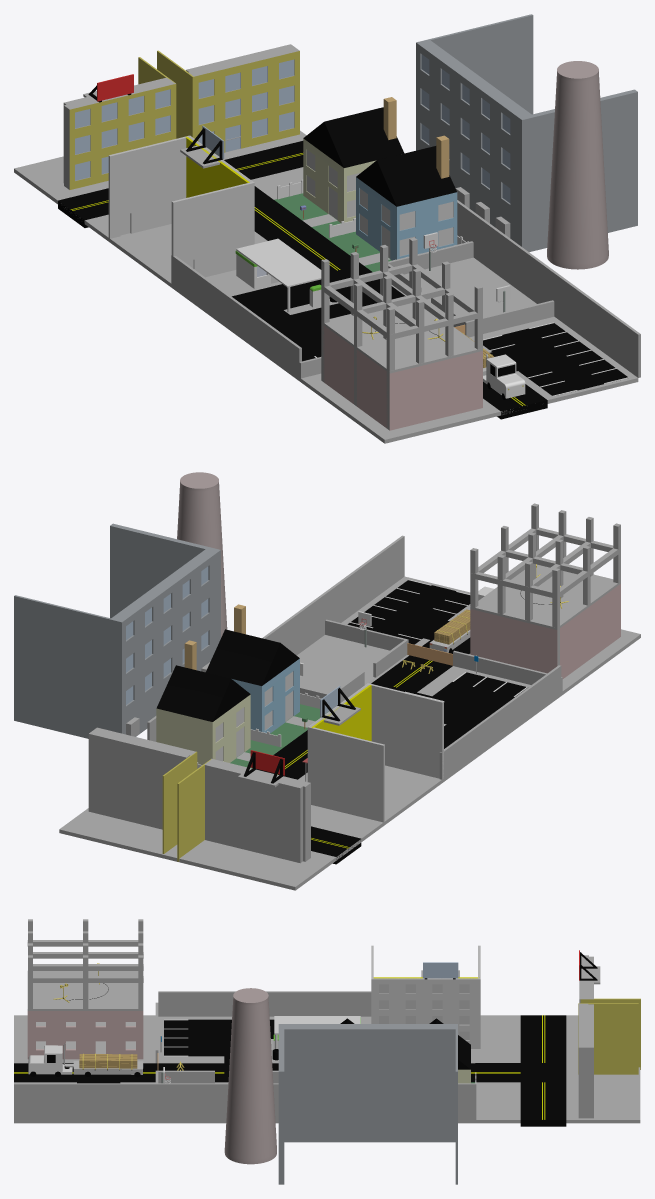
File: city_road.glb
The picture shows the model from 3 angles, top to bottom: view 1: azimuth 30°, elevation 25°; view 2: azimuth 150°, elevation 25°; view 3: azimuth 270°, elevation 25°; orthographic projection. The views are drawn at different scales.
Parts seen in each view (by area): view 1: Object_2; view 2: Object_2; view 3: Object_2.
Boxes of the visible parts, x1,y1,x2,y2 form: Object_2: (14, 14, 640, 443); Object_2: (14, 472, 640, 890); Object_2: (14, 919, 640, 1184).
Bounding box in the file's own units: 38.8 × 17.72 × 60.85.
